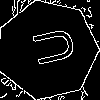U: (22, 25, 77, 70)
